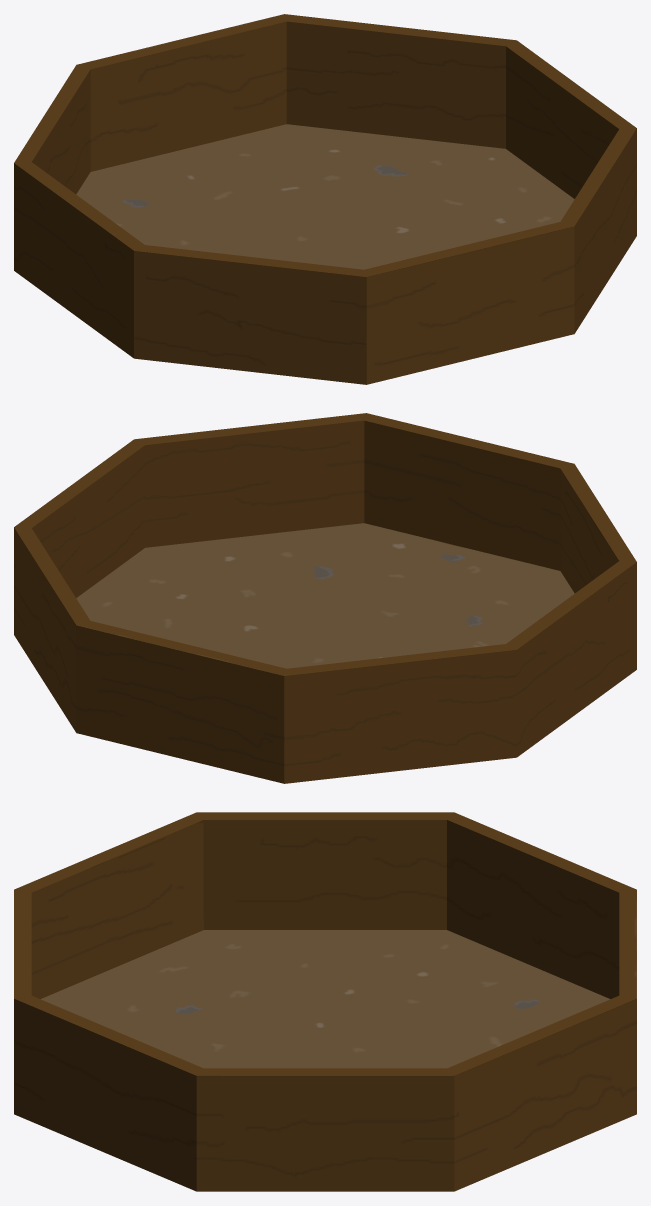
File: GagaBallPit.fbx
3 renders of one model, top to bottom at view 1: azimuth 30°, elevation 25°; view 2: azimuth 150°, elevation 25°; view 3: azimuth 270°, elevation 25°, orthographic. The views are drawn at different scales.
Visible parts, largest first — view 1: Cube; view 2: Cube; view 3: Cube.
Boxes of the visible parts, left/top/right/bottom form: Cube: left=14, top=14, right=636, bottom=384; Cube: left=14, top=413, right=636, bottom=783; Cube: left=14, top=812, right=636, bottom=1191.
Size of the model in its own units: 1026 by 210 by 1025.
Materials: 1 (1 with a texture image).
